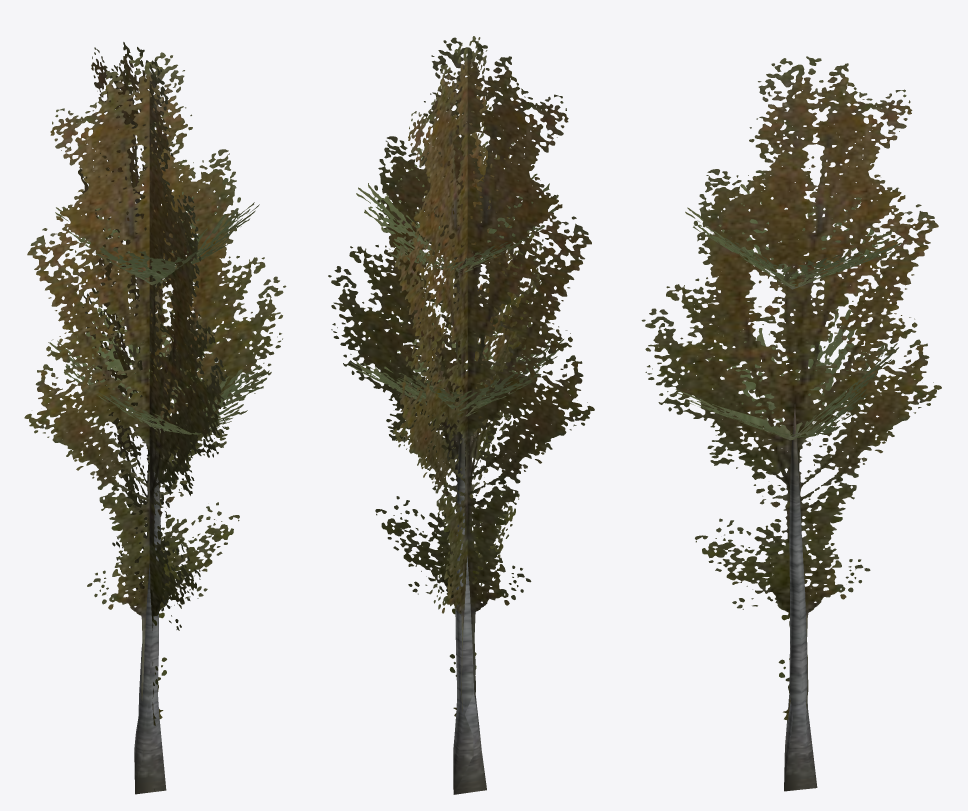
Rendered from Background_Tree_Atlas_001_alt.glb.
The picture shows the model from 3 angles, left to right: view 1: azimuth 30°, elevation 25°; view 2: azimuth 150°, elevation 25°; view 3: azimuth 270°, elevation 25°; orthographic projection. The views are drawn at different scales.
Visible parts, largest first — view 1: Background_Tree_Atlas.001; view 2: Background_Tree_Atlas.001; view 3: Background_Tree_Atlas.001.
Boxes of the visible parts, x1,y1,x2,y2 form: Background_Tree_Atlas.001: [24, 42, 286, 794]; Background_Tree_Atlas.001: [328, 36, 594, 794]; Background_Tree_Atlas.001: [641, 56, 941, 791].
Bounding box in the file's own units: 1140 × 2926 × 1140.
1 material, 1 textured.
